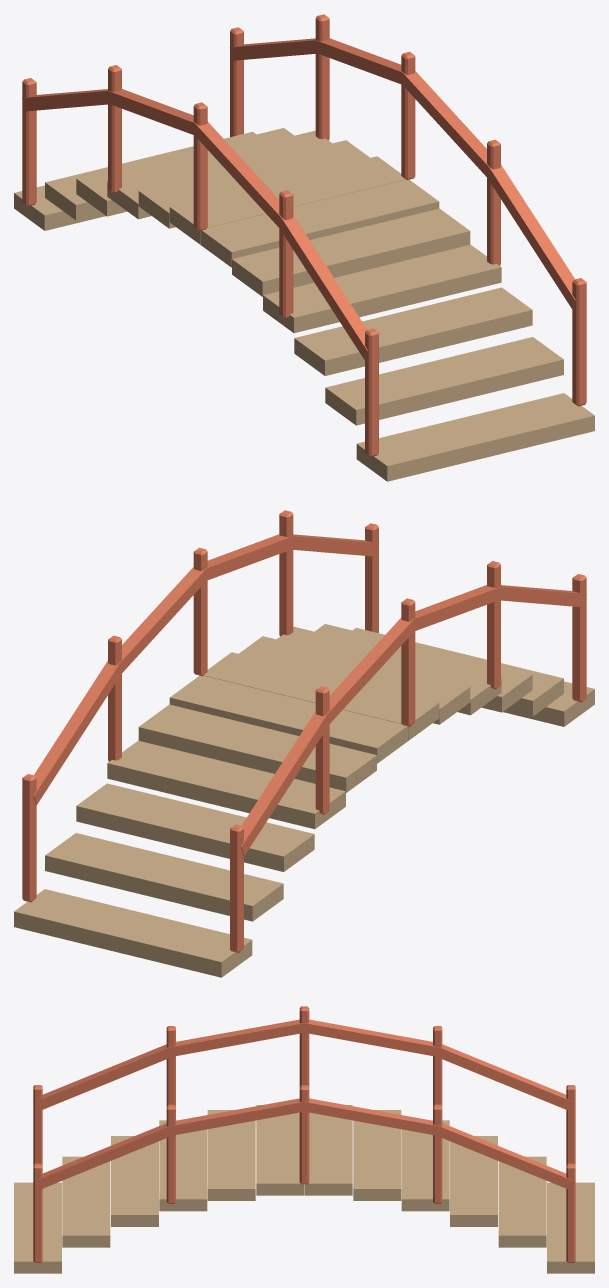
Rendered from arched-garden-bridge.glb.
3 views of the same model, one above another, from view 1: azimuth 30°, elevation 25°; view 2: azimuth 150°, elevation 25°; view 3: azimuth 270°, elevation 25° (orthographic). The views are drawn at different scales.
Visible parts, largest first — view 1: arched-garden-bridge; view 2: arched-garden-bridge; view 3: arched-garden-bridge.
Boxes of the visible parts, bbox=[...] form: arched-garden-bridge: bbox=[14, 14, 594, 481]; arched-garden-bridge: bbox=[14, 510, 594, 977]; arched-garden-bridge: bbox=[14, 1006, 594, 1273].
Size of the model in its own units: 1.48 by 1.55 by 4.36.
